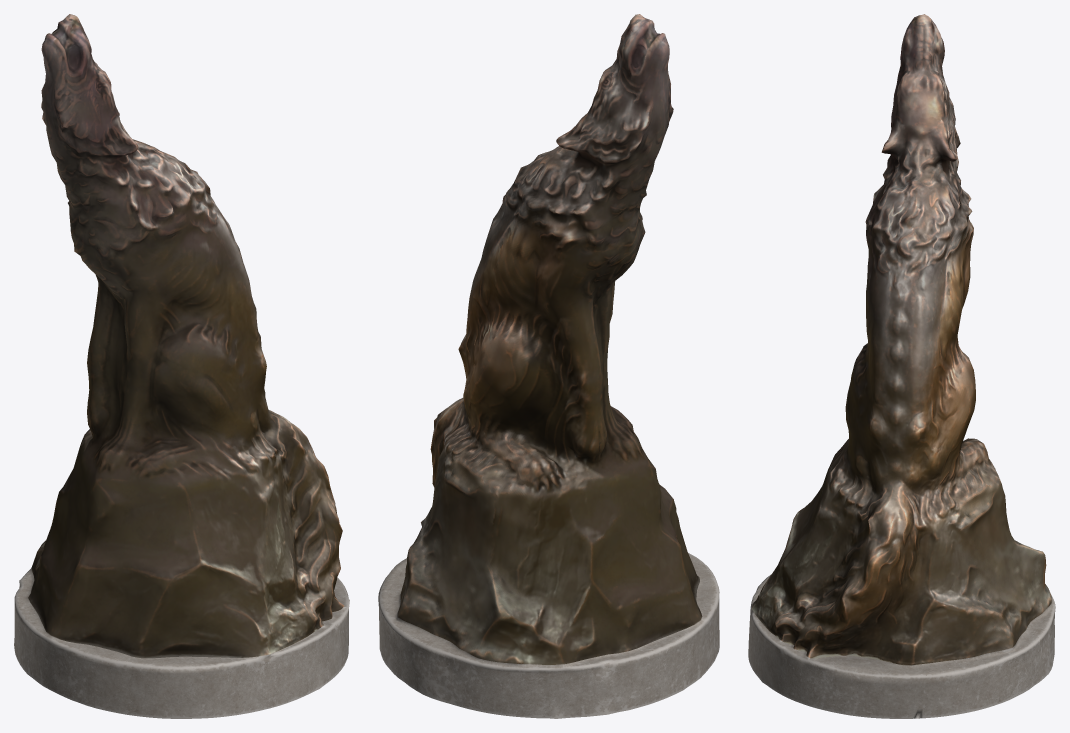
File: Howl.glb
3 renders of one model, left to right at view 1: azimuth 30°, elevation 25°; view 2: azimuth 150°, elevation 25°; view 3: azimuth 270°, elevation 25°, orthographic. The views are drawn at different scales.
Parts seen in each view (by area): view 1: Howl_low; view 2: Howl_low; view 3: Howl_low.
Part boxes in pixels (<box>): Howl_low: <box>14,14,349,718</box>; Howl_low: <box>378,14,719,718</box>; Howl_low: <box>748,14,1055,718</box>.
Size of the model in its own units: 0.7356 by 1.57 by 0.7349.
Materials: 1 (1 with a texture image).
